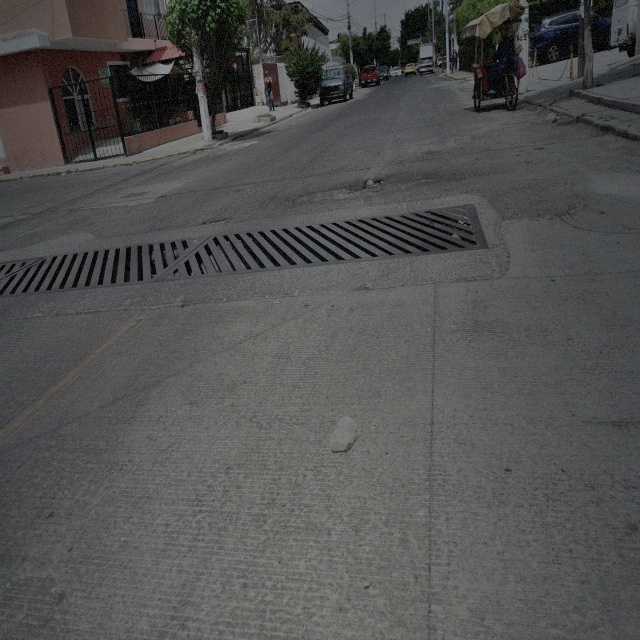pothole: (364, 175, 384, 193)
